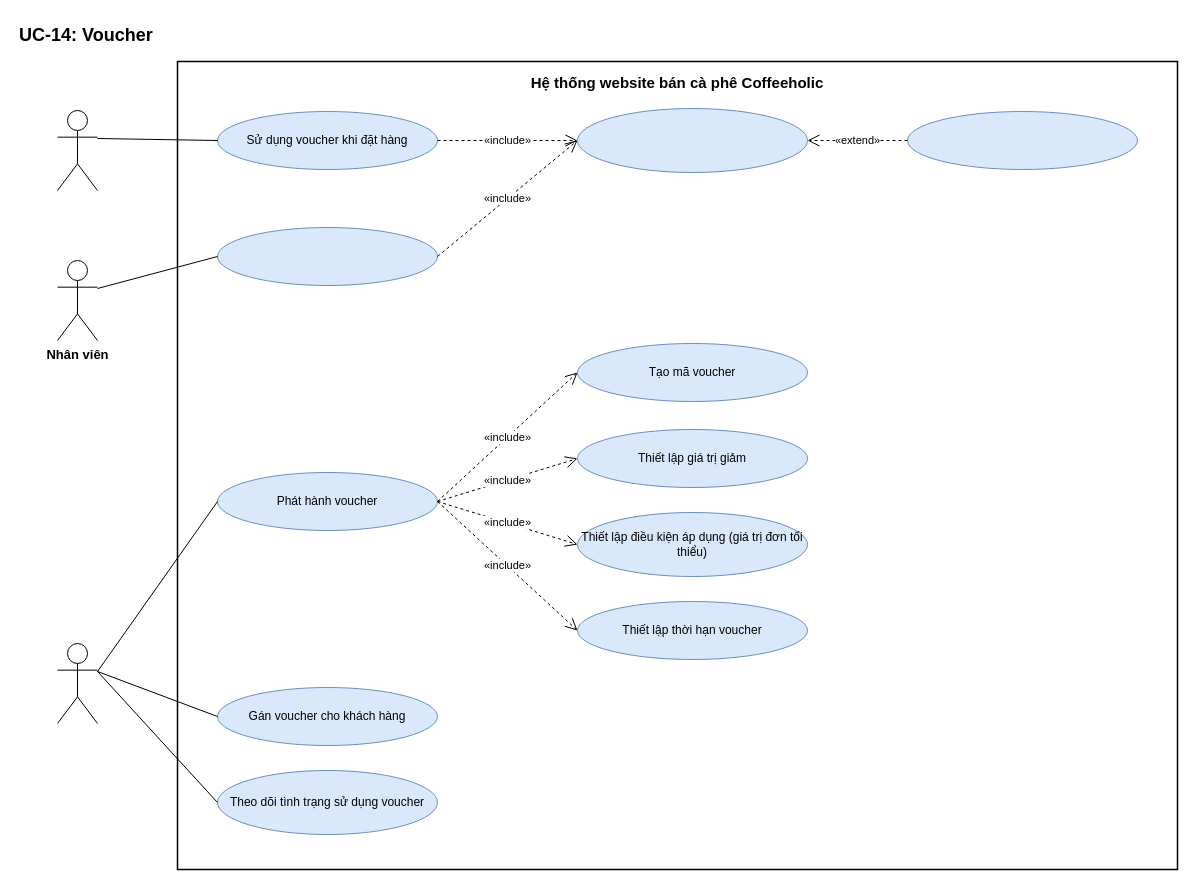
Some shapes in this 1195 by 887 pixel diagram are drawn without their labels. The shapes that lost their labels are listed below. From the top down, each one's centre as x and y in pixels, then its label:
pixel 77 150: Khách hàng
pixel 692 140: Kiểm tra voucher (chủ sở hữu, chưa dùng, còn hạn, đủ điều kiện)
pixel 1022 140: Từ chối voucher không hợp lệ
pixel 327 256: Áp dụng voucher tại quầy
pixel 77 683: Quản lý
